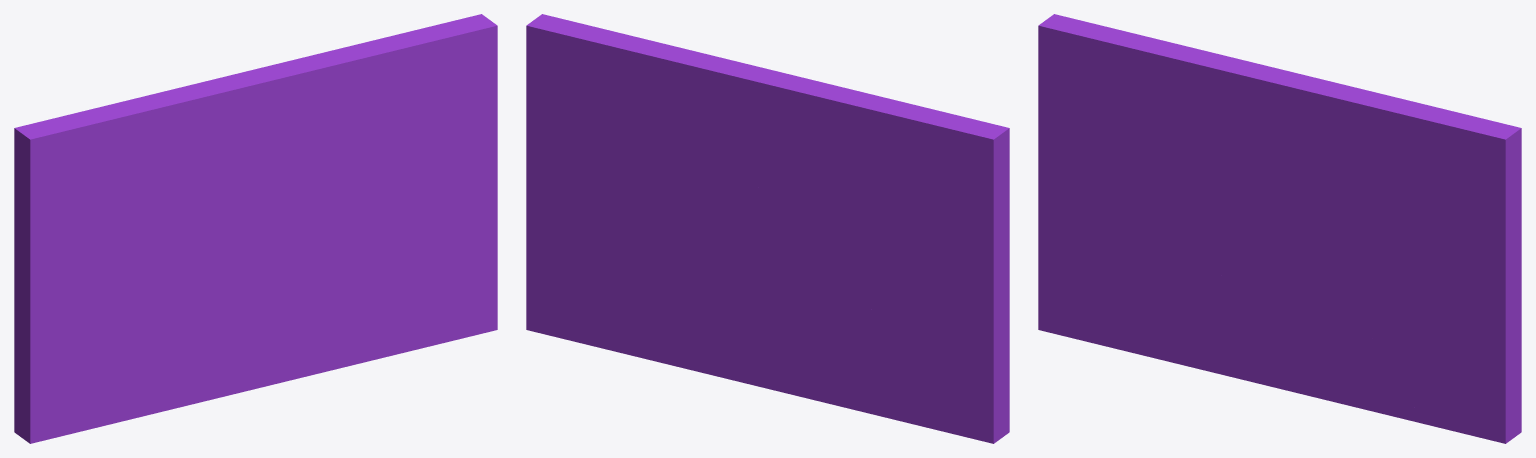
Rendered from Barrier_87_chunks.fbx.
3 views of the same model, side by side, from view 1: azimuth 30°, elevation 25°; view 2: azimuth 150°, elevation 25°; view 3: azimuth 330°, elevation 25° (orthographic).
Visible parts, largest first — view 1: Barrier_87_1, Barrier_87_2, Barrier_87_3, Barrier_87_5, Barrier_87_4, Barrier_87_0; view 2: Barrier_87_2, Barrier_87_1, Barrier_87_5, Barrier_87_3, Barrier_87_6, Barrier_87_4; view 3: Barrier_87_2, Barrier_87_1, Barrier_87_3, Barrier_87_5, Barrier_87_4, Barrier_87_0.
Part boxes in pixels (<box>): Barrier_87_1: <box>14,68,278,403</box>; Barrier_87_2: <box>259,14,497,339</box>; Barrier_87_3: <box>14,278,219,443</box>; Barrier_87_5: <box>208,262,453,338</box>; Barrier_87_4: <box>159,333,455,412</box>; Barrier_87_0: <box>231,210,370,294</box>; Barrier_87_2: <box>526,14,761,338</box>; Barrier_87_1: <box>749,67,1009,395</box>; Barrier_87_5: <box>563,232,824,350</box>; Barrier_87_3: <box>816,276,1009,443</box>; Barrier_87_6: <box>778,320,911,423</box>; Barrier_87_4: <box>611,346,809,398</box>; Barrier_87_2: <box>1276,74,1521,443</box>; Barrier_87_1: <box>1038,14,1298,289</box>; Barrier_87_3: <box>1038,251,1227,360</box>; Barrier_87_5: <box>1216,246,1461,431</box>; Barrier_87_4: <box>1167,312,1463,433</box>; Barrier_87_0: <box>1240,212,1378,346</box>.
Size of the model in its own units: 462 by 288 by 27.2.
